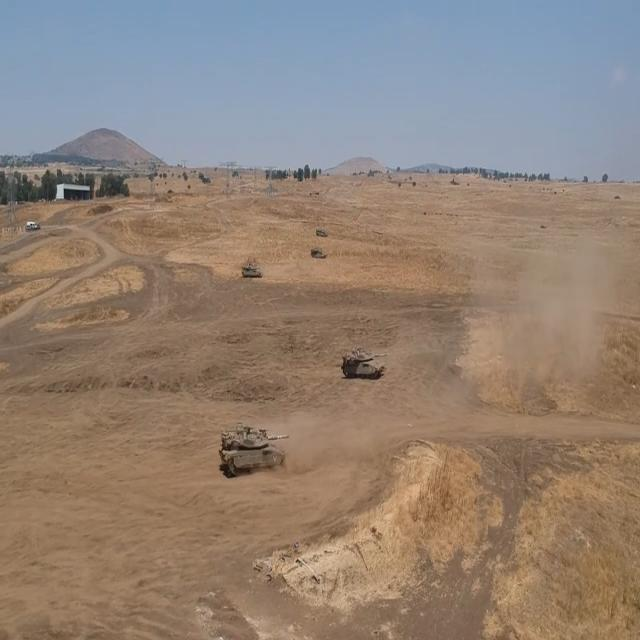tank: (212, 416, 293, 478), (341, 335, 388, 378), (237, 260, 264, 280), (306, 241, 328, 263), (314, 223, 329, 238)
